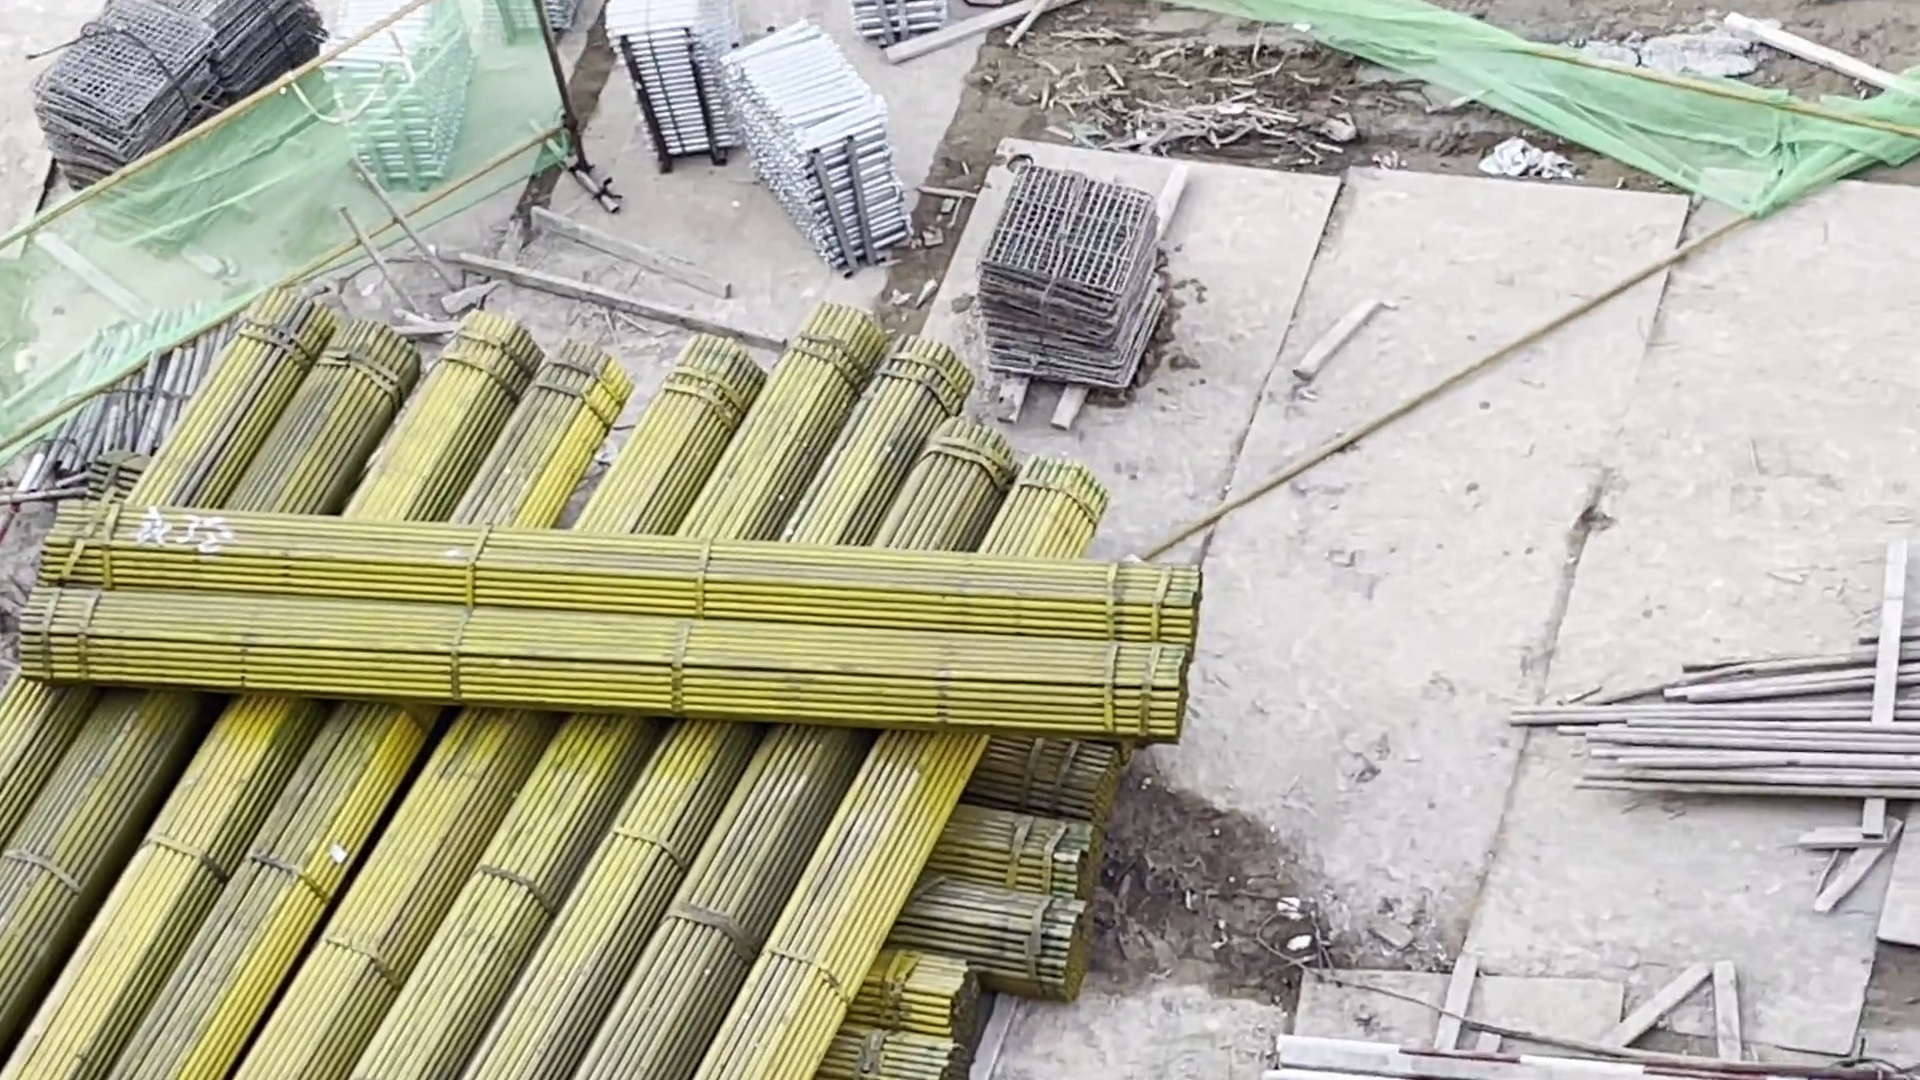scaffold: (723, 37, 887, 276), (340, 15, 487, 187), (607, 1, 742, 173), (841, 1, 952, 51), (488, 3, 585, 42)
